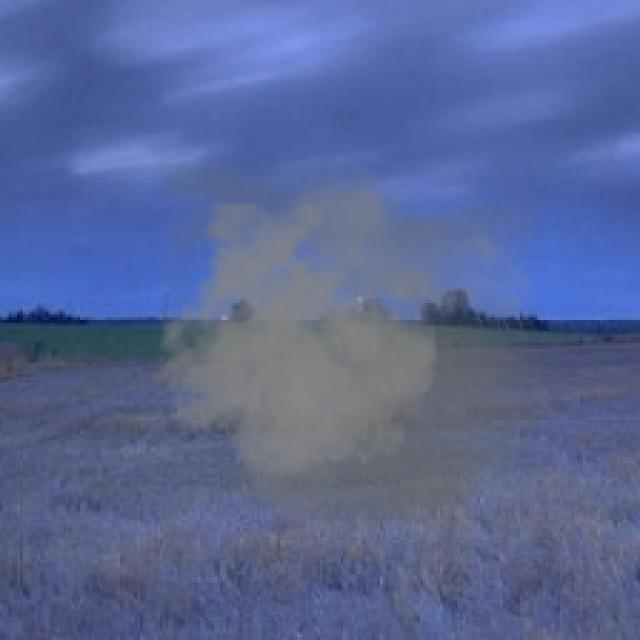smoke: (149, 163, 540, 537)
